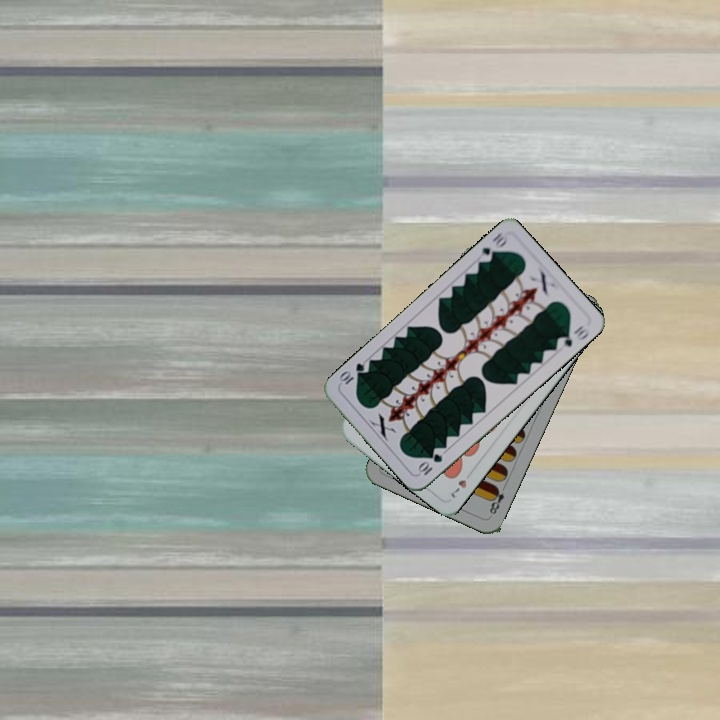E8: (485, 481, 509, 517)
G10: (477, 228, 510, 266), (414, 450, 445, 478)
H7: (447, 466, 474, 501)
